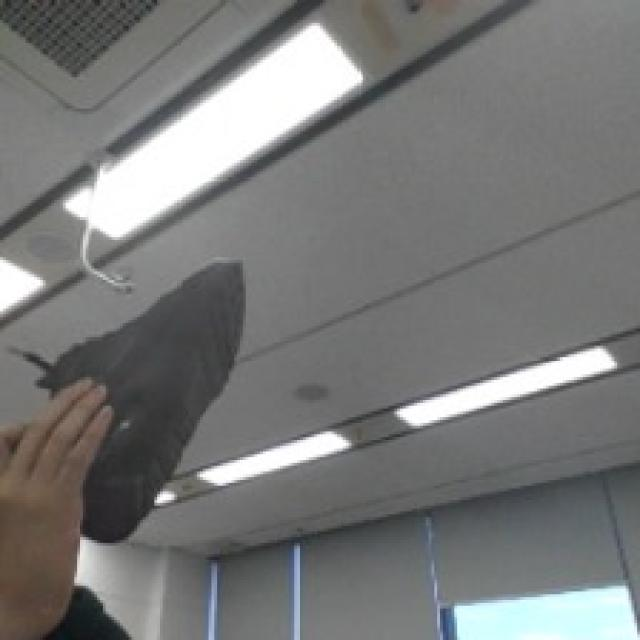shoe: (66, 227, 250, 524)
